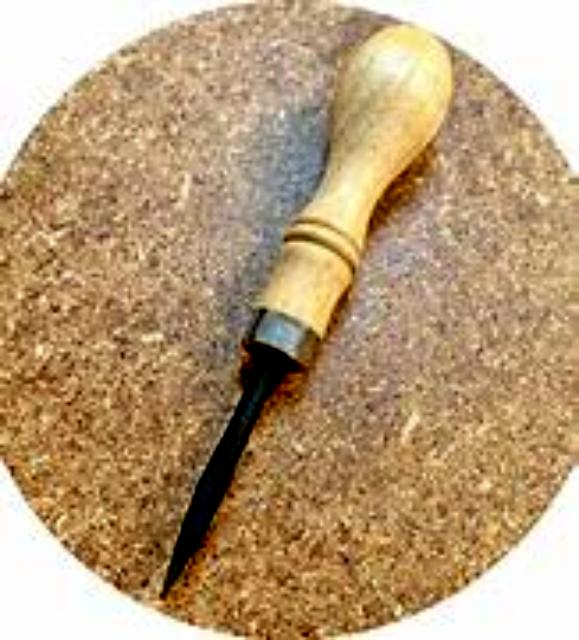ice pick: (153, 26, 451, 604)
